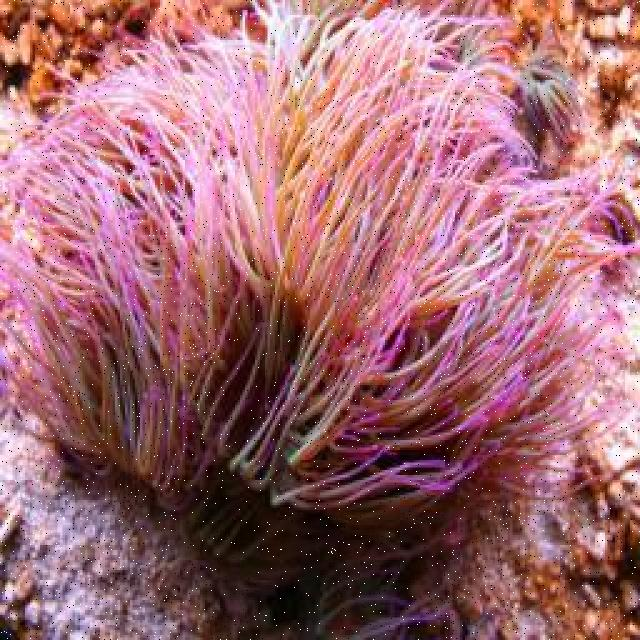reefs: (0, 4, 638, 638)
